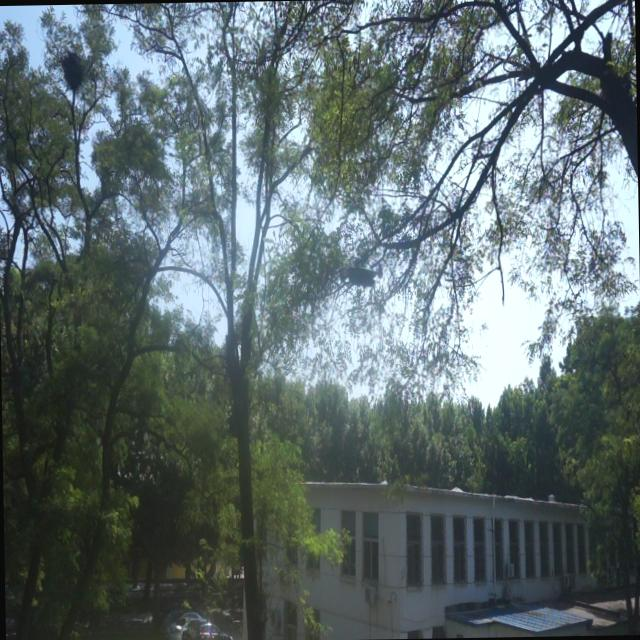drone: (337, 259, 383, 294)
